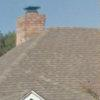Chimney: (10, 3, 42, 50)
